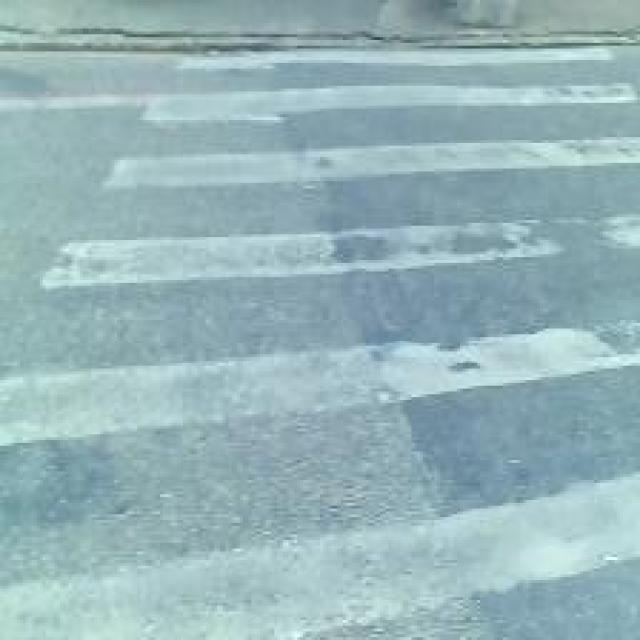walk-crossing: (139, 84, 607, 616)
